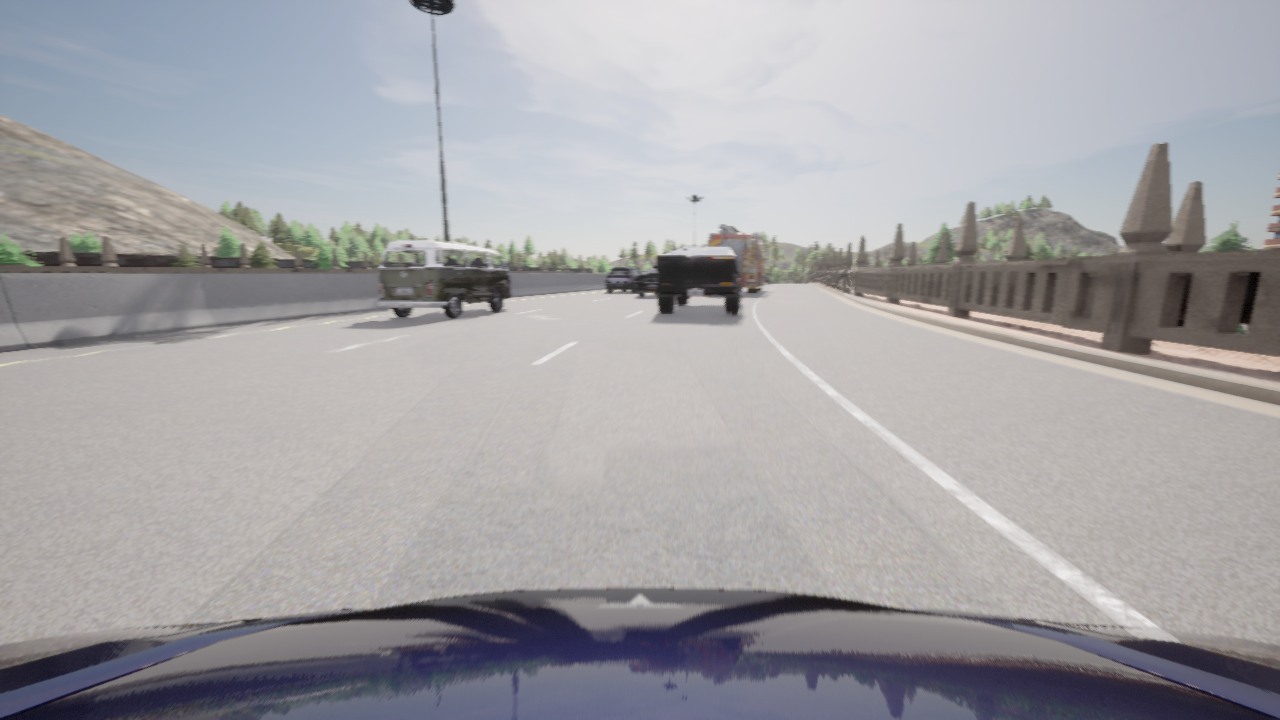cyclist: (0, 588, 1279, 719), (377, 240, 510, 319), (657, 246, 741, 314), (708, 225, 769, 294), (606, 267, 642, 292), (637, 265, 658, 296), (764, 270, 770, 283)
